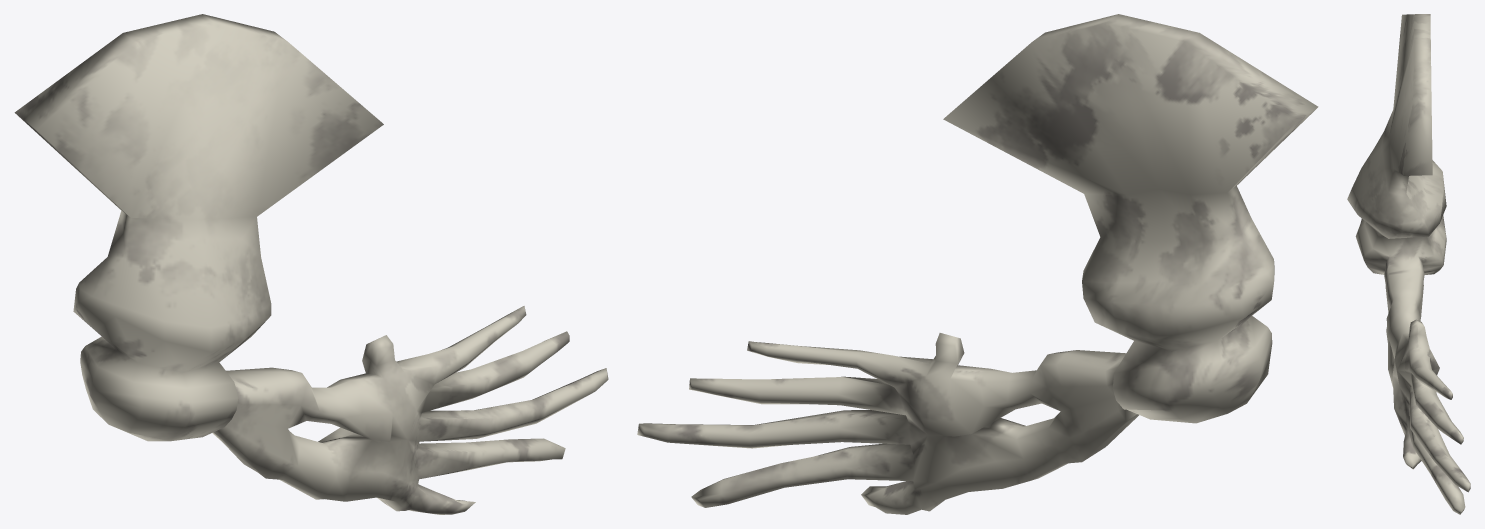
File: bowheadWhaleSkele00c.fbx
3 views of the same model, side by side, from view 1: azimuth 30°, elevation 25°; view 2: azimuth 150°, elevation 25°; view 3: azimuth 270°, elevation 25° (orthographic). The views are drawn at different scales.
Visible parts, largest first — view 1: bowheadWhaleSkel_c; view 2: bowheadWhaleSkel_c; view 3: bowheadWhaleSkel_c.
Part boxes in pixels (x1,y1,x2,y2): bowheadWhaleSkel_c: (14, 14, 608, 514); bowheadWhaleSkel_c: (637, 14, 1318, 514); bowheadWhaleSkel_c: (1347, 14, 1470, 514).
Size of the model in its own units: 6.39 by 5.43 by 1.71.
Materials: 1 (1 with a texture image).
